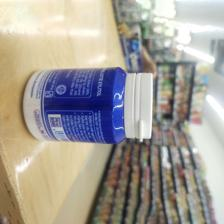Xylitol_blue: (22, 67, 154, 145)
